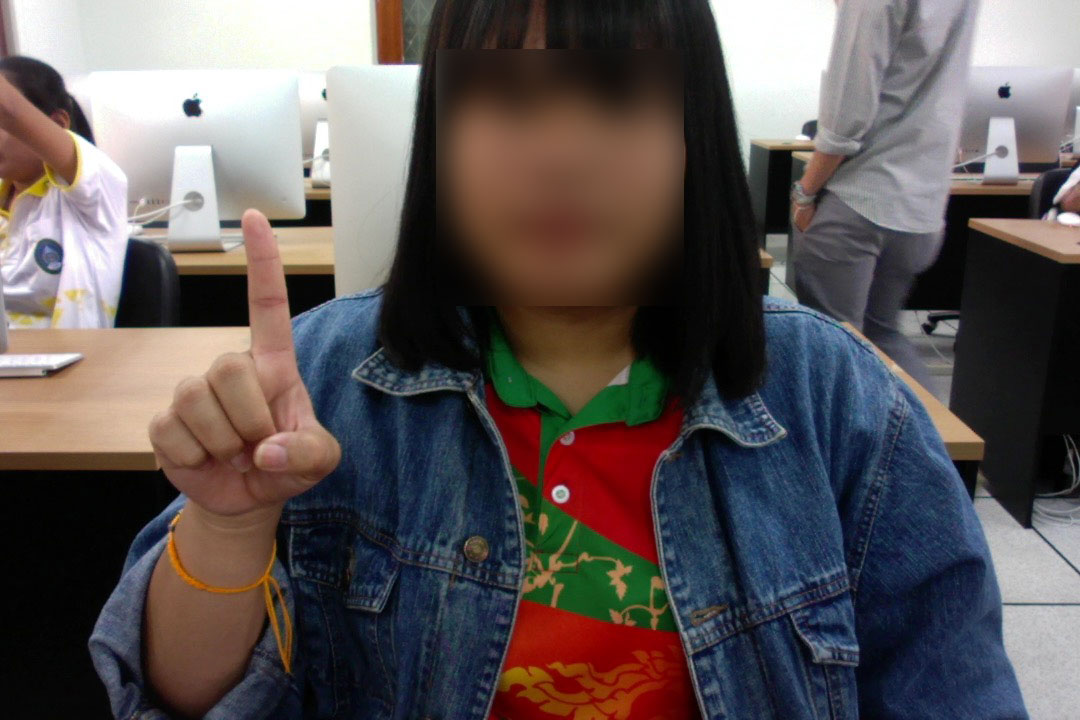dor: (142, 202, 346, 536)
